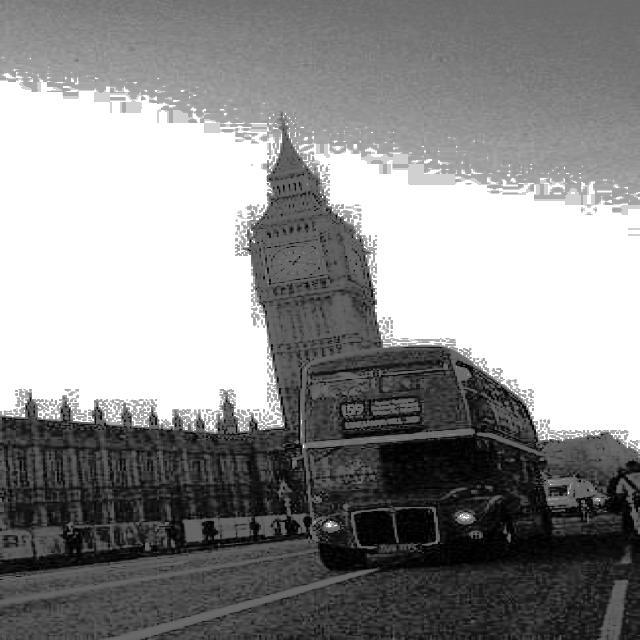Bus: (273, 337, 567, 577)
Car: (537, 461, 586, 515)
